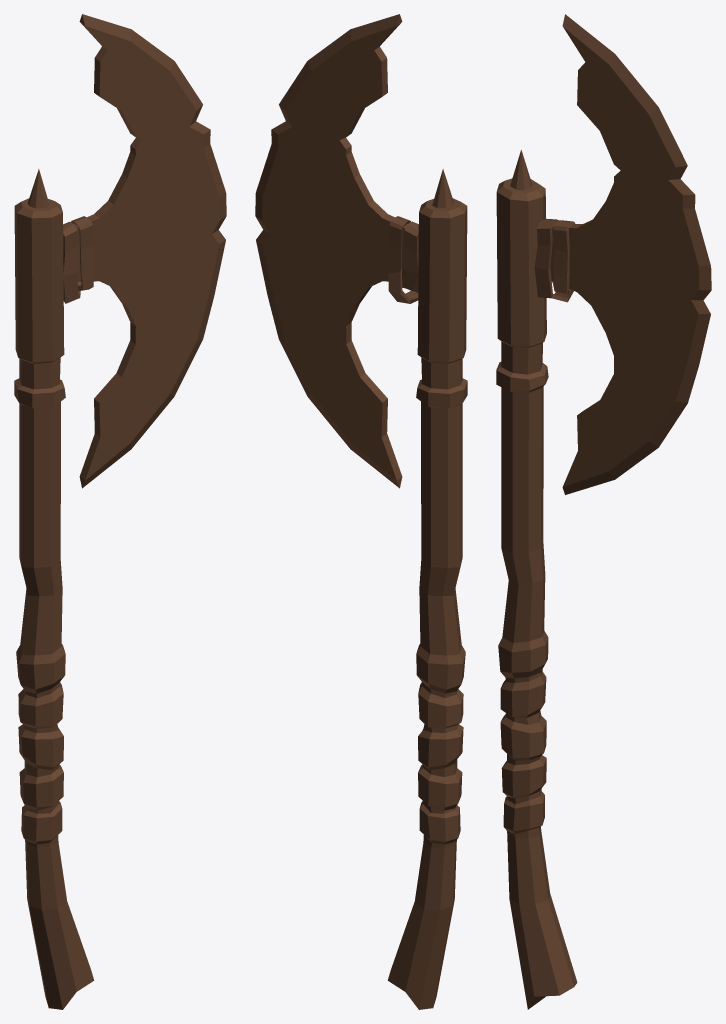
Rendered from Axe.glb.
3 views of the same model, side by side, from view 1: azimuth 30°, elevation 25°; view 2: azimuth 150°, elevation 25°; view 3: azimuth 330°, elevation 25° (orthographic).
Size of the model in its own units: 1.17 by 5.26 by 0.2483.
